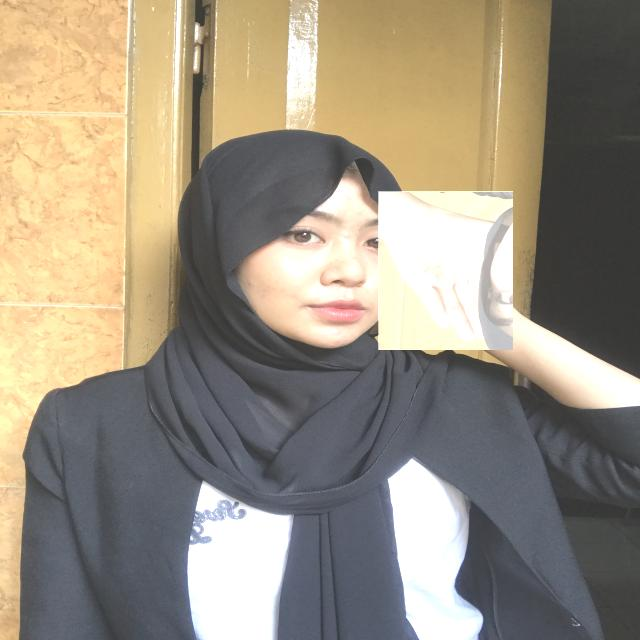mendengar: (378, 191, 513, 350)
